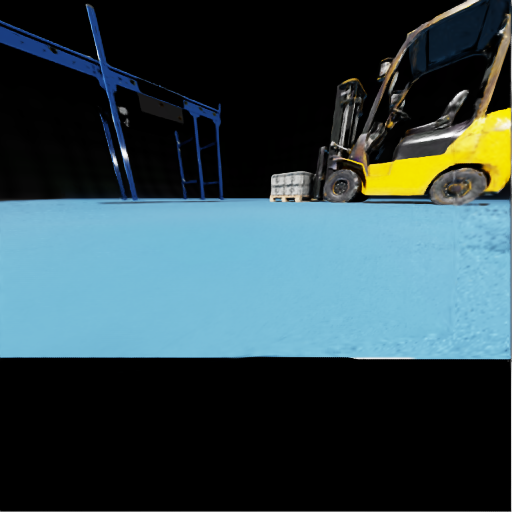transportation_area: (285, 184, 313, 194), (289, 194, 295, 197), (99, 70, 100, 72), (120, 79, 121, 80)
